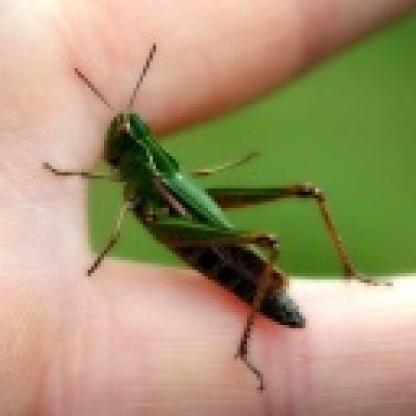grasshopper: (53, 55, 368, 393)
